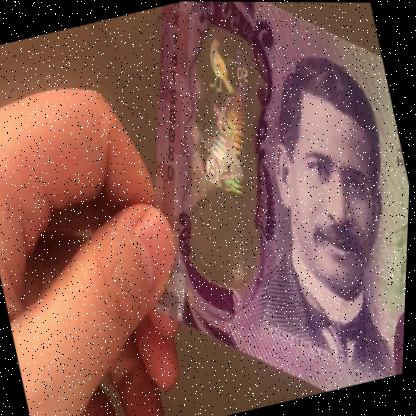50F: (167, 26, 300, 265)
